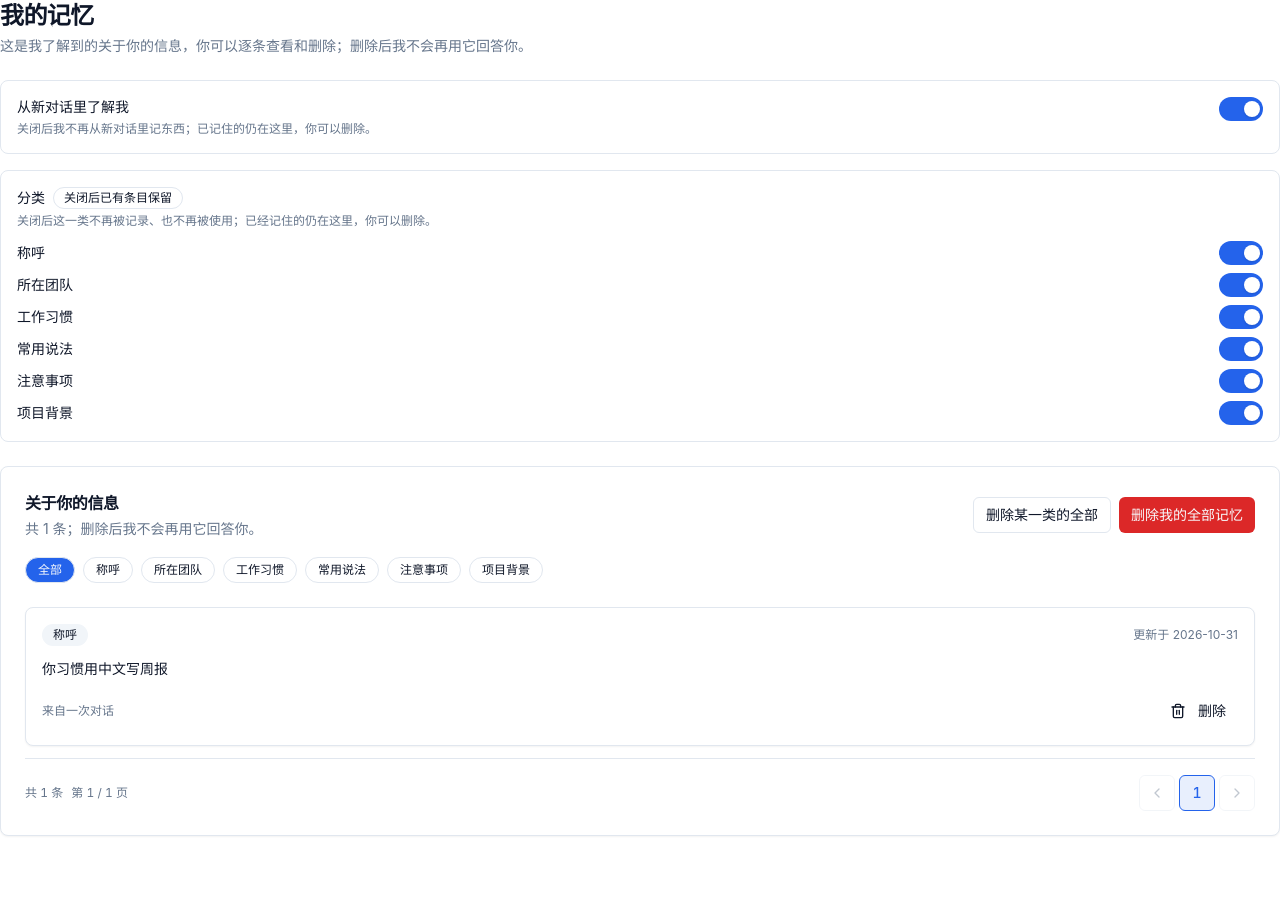
Test: 我的记忆页 › 单条删除必须二次确认后才删除
The image size is (1280, 900).
Later steps or results of the test are not shown.
Click the button "删除" at (1198, 711), box left=1158, top=693, right=1238, bottom=729
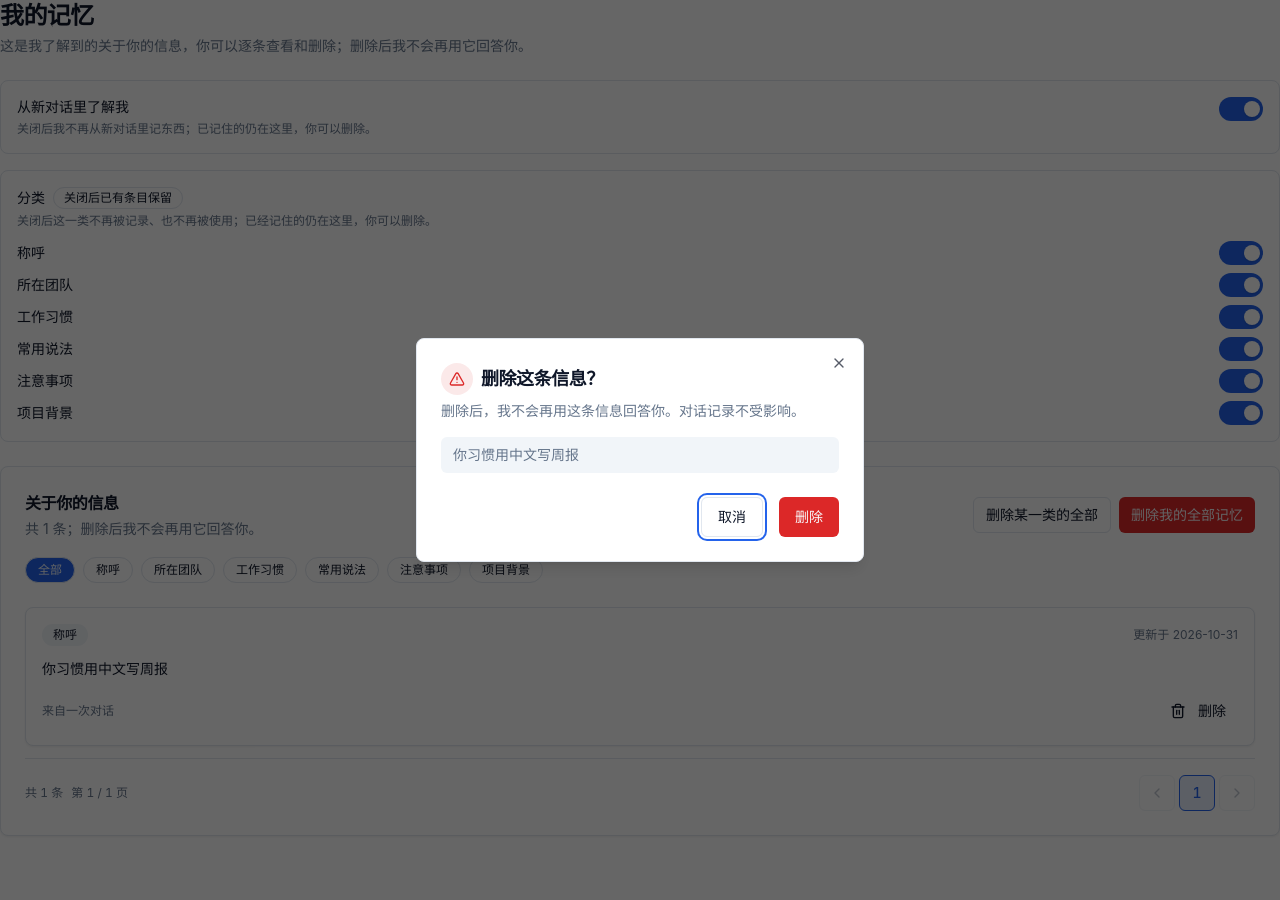
Result: the text "删除这条信息？" is shown at left=481, top=370, right=604, bottom=388
Result: the text "删除后，我不会再用这条信息回答你。对话记录不受影响。" is shown at left=441, top=401, right=839, bottom=421
